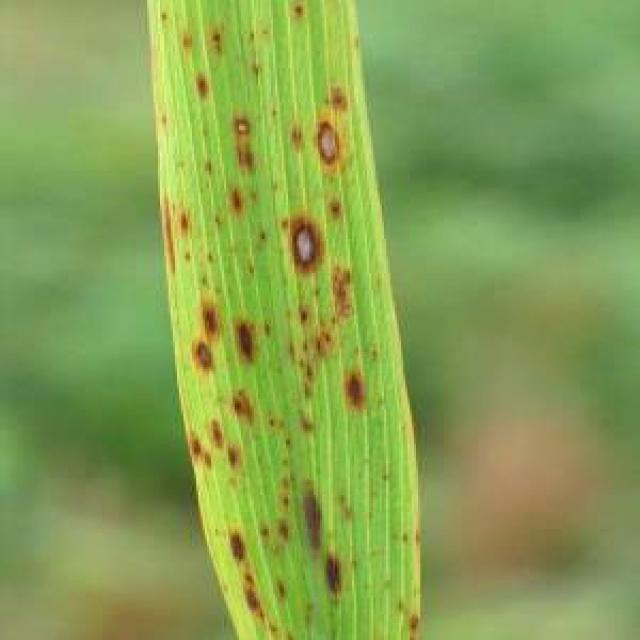Rice: (182, 295, 227, 369), (306, 112, 360, 171), (279, 213, 329, 274), (293, 478, 327, 562), (328, 259, 370, 326), (231, 114, 262, 177), (320, 541, 354, 598), (345, 368, 384, 416), (243, 580, 275, 630), (235, 316, 266, 366), (178, 430, 213, 470), (306, 322, 341, 362), (224, 528, 257, 568), (226, 384, 254, 419), (192, 69, 216, 106), (174, 205, 200, 233), (209, 417, 228, 455), (292, 302, 320, 326), (223, 443, 243, 475), (300, 409, 321, 436), (227, 190, 248, 212)
